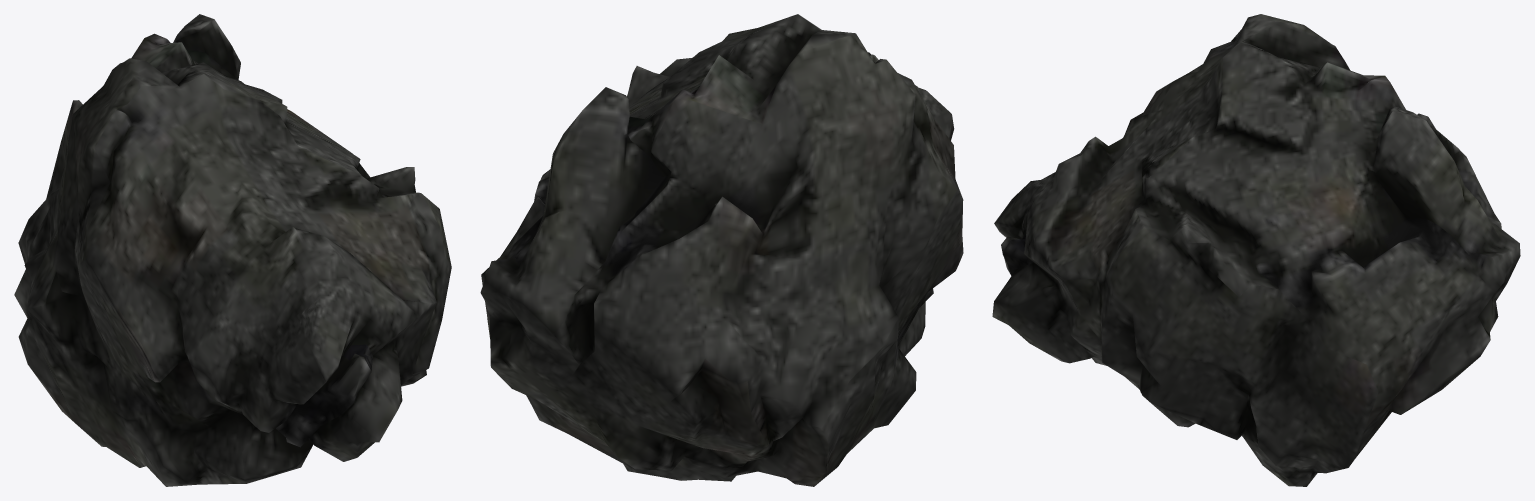
The model's file is SM_RockCoal_561e0b.glb.
3 renders of one model, left to right at view 1: azimuth 30°, elevation 25°; view 2: azimuth 150°, elevation 25°; view 3: azimuth 270°, elevation 25°, orthographic. The views are drawn at different scales.
Size of the model in its own units: 1.63 by 1.97 by 2.36.
1 material, 1 textured.
